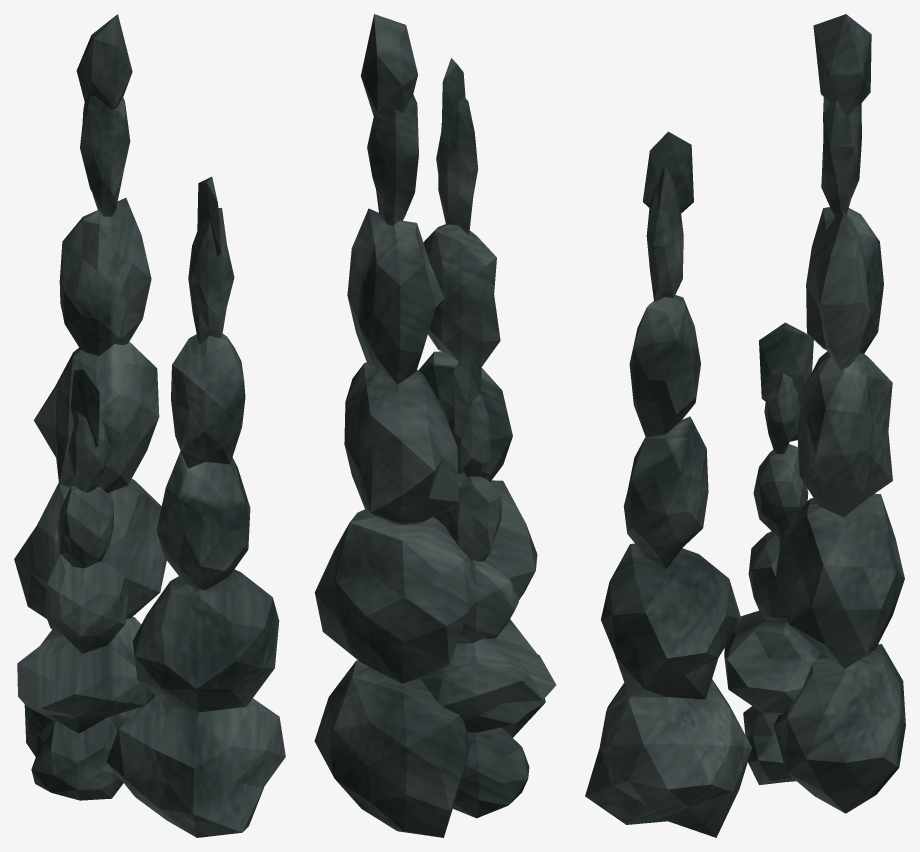
Rendered from 0066_rock_spire_16.glb.
3 views of the same model, side by side, from view 1: azimuth 30°, elevation 25°; view 2: azimuth 150°, elevation 25°; view 3: azimuth 270°, elevation 25° (orthographic). The views are drawn at different scales.
Visible parts, largest first — view 1: stone_dark; view 2: stone_dark; view 3: stone_dark.
Part boxes in pixels (x1=…): stone_dark: x1=14, y1=14, x2=285, y2=837; stone_dark: x1=314, y1=14, x2=556, y2=837; stone_dark: x1=585, y1=14, x2=905, y2=837.
Bounding box in the file's own units: 1.09 × 3.74 × 1.34.
Materials: 1 (1 with a texture image).
